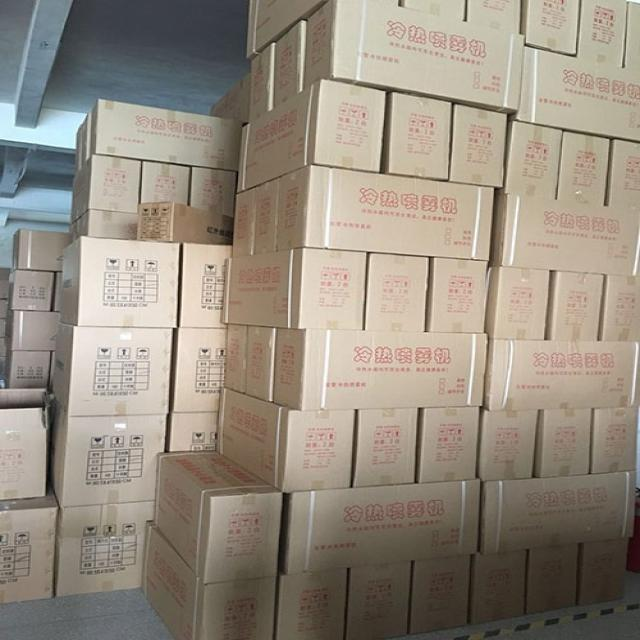box: (305, 0, 526, 114), (276, 165, 494, 261), (283, 479, 481, 574), (273, 327, 488, 411), (155, 450, 283, 584), (238, 80, 387, 192), (140, 520, 278, 640), (216, 387, 356, 492), (49, 394, 168, 507), (480, 471, 636, 554), (490, 191, 640, 276), (509, 48, 640, 142), (220, 249, 367, 330), (50, 322, 174, 416), (484, 338, 640, 410), (88, 100, 244, 171), (60, 237, 180, 328), (55, 501, 155, 597), (0, 482, 60, 604), (381, 93, 453, 180), (0, 389, 49, 499), (275, 568, 349, 640), (352, 409, 420, 487), (347, 561, 413, 640), (367, 252, 431, 331), (408, 556, 472, 634), (70, 156, 142, 225), (451, 104, 509, 189), (246, 0, 328, 60), (428, 257, 493, 332), (419, 406, 481, 484), (485, 268, 550, 340), (178, 243, 232, 329), (172, 328, 225, 413), (477, 410, 540, 481), (506, 121, 563, 199), (470, 549, 527, 627), (535, 407, 595, 479), (138, 202, 233, 246), (548, 270, 605, 341), (558, 131, 611, 205), (526, 543, 580, 615), (577, 538, 628, 606), (590, 406, 640, 475), (576, 0, 627, 66), (274, 20, 306, 108), (602, 274, 640, 341), (13, 229, 72, 272), (605, 140, 640, 210), (246, 325, 276, 402), (191, 167, 237, 217), (248, 41, 274, 124), (141, 161, 191, 204), (4, 312, 59, 351), (166, 413, 219, 452), (253, 178, 280, 254), (72, 210, 138, 241), (6, 270, 55, 310), (230, 186, 257, 257), (466, 0, 522, 34), (3, 349, 51, 388), (223, 323, 248, 393), (210, 73, 247, 120), (402, 0, 466, 19), (625, 1, 640, 67), (76, 114, 88, 172)
